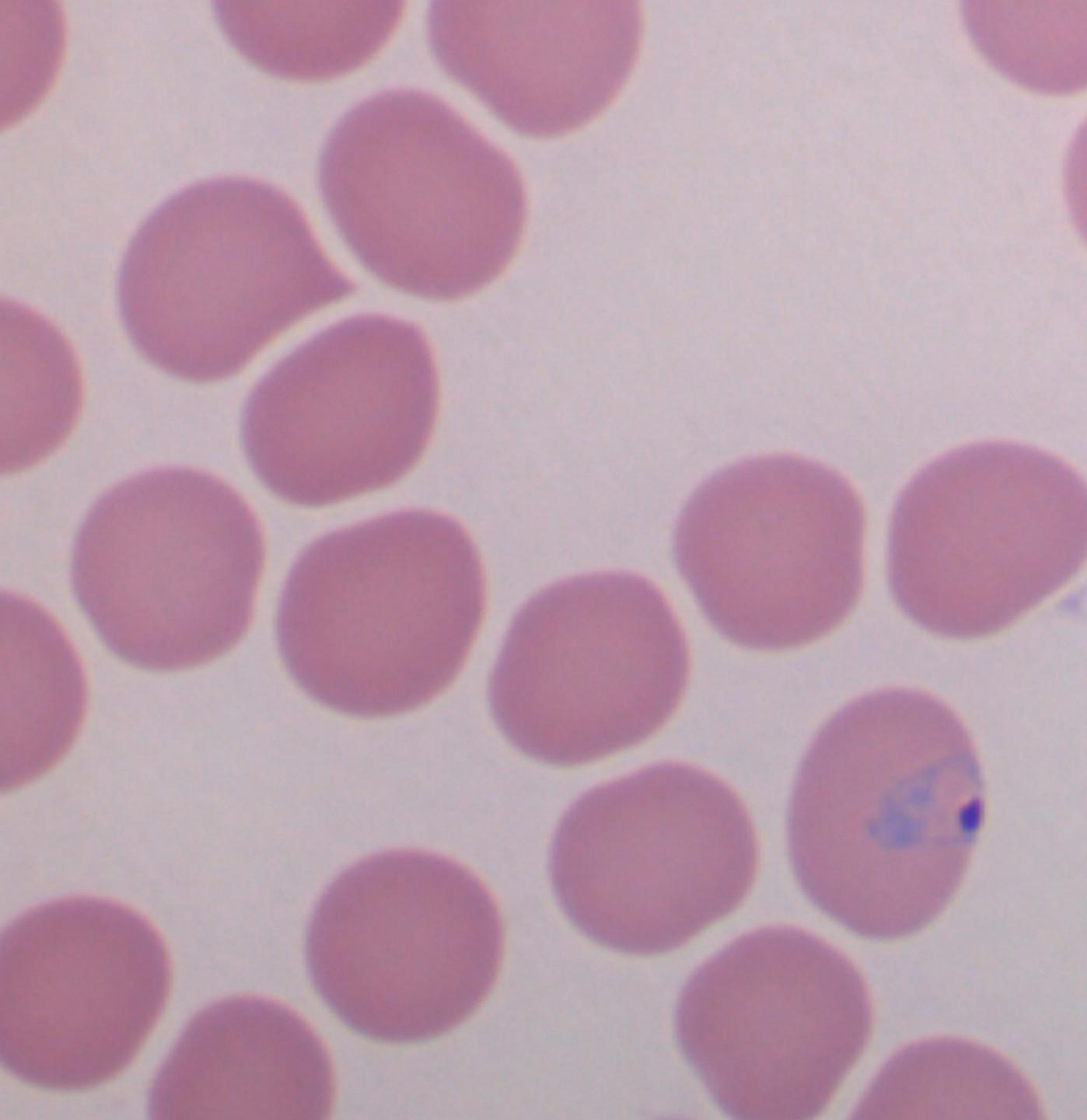Infected: (101, 180, 294, 432)
Uninfected: (739, 742, 968, 951), (562, 817, 769, 1039), (596, 402, 805, 603), (329, 161, 537, 358), (581, 76, 779, 277), (0, 477, 200, 674), (399, 358, 601, 550), (827, 452, 1018, 650), (223, 470, 408, 669), (653, 617, 847, 804), (220, 6, 403, 190), (917, 27, 1087, 214), (441, 972, 651, 1120), (739, 0, 943, 123)
